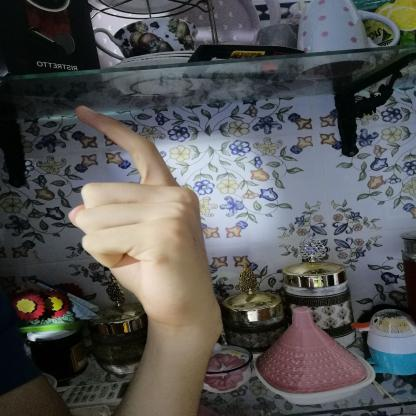RAA: (50, 97, 241, 327)
